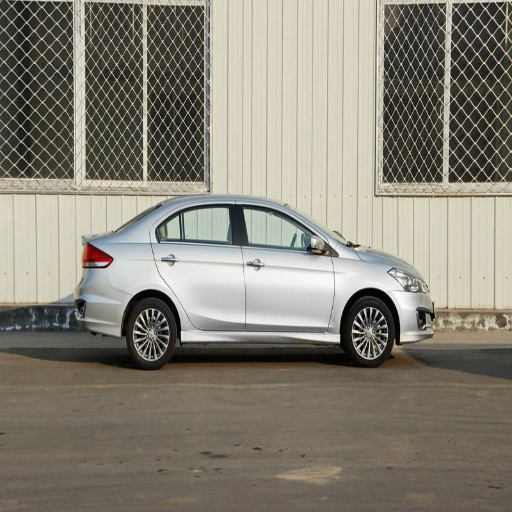back_right_door: (153, 203, 245, 334)
front_right_door: (240, 204, 334, 331)
